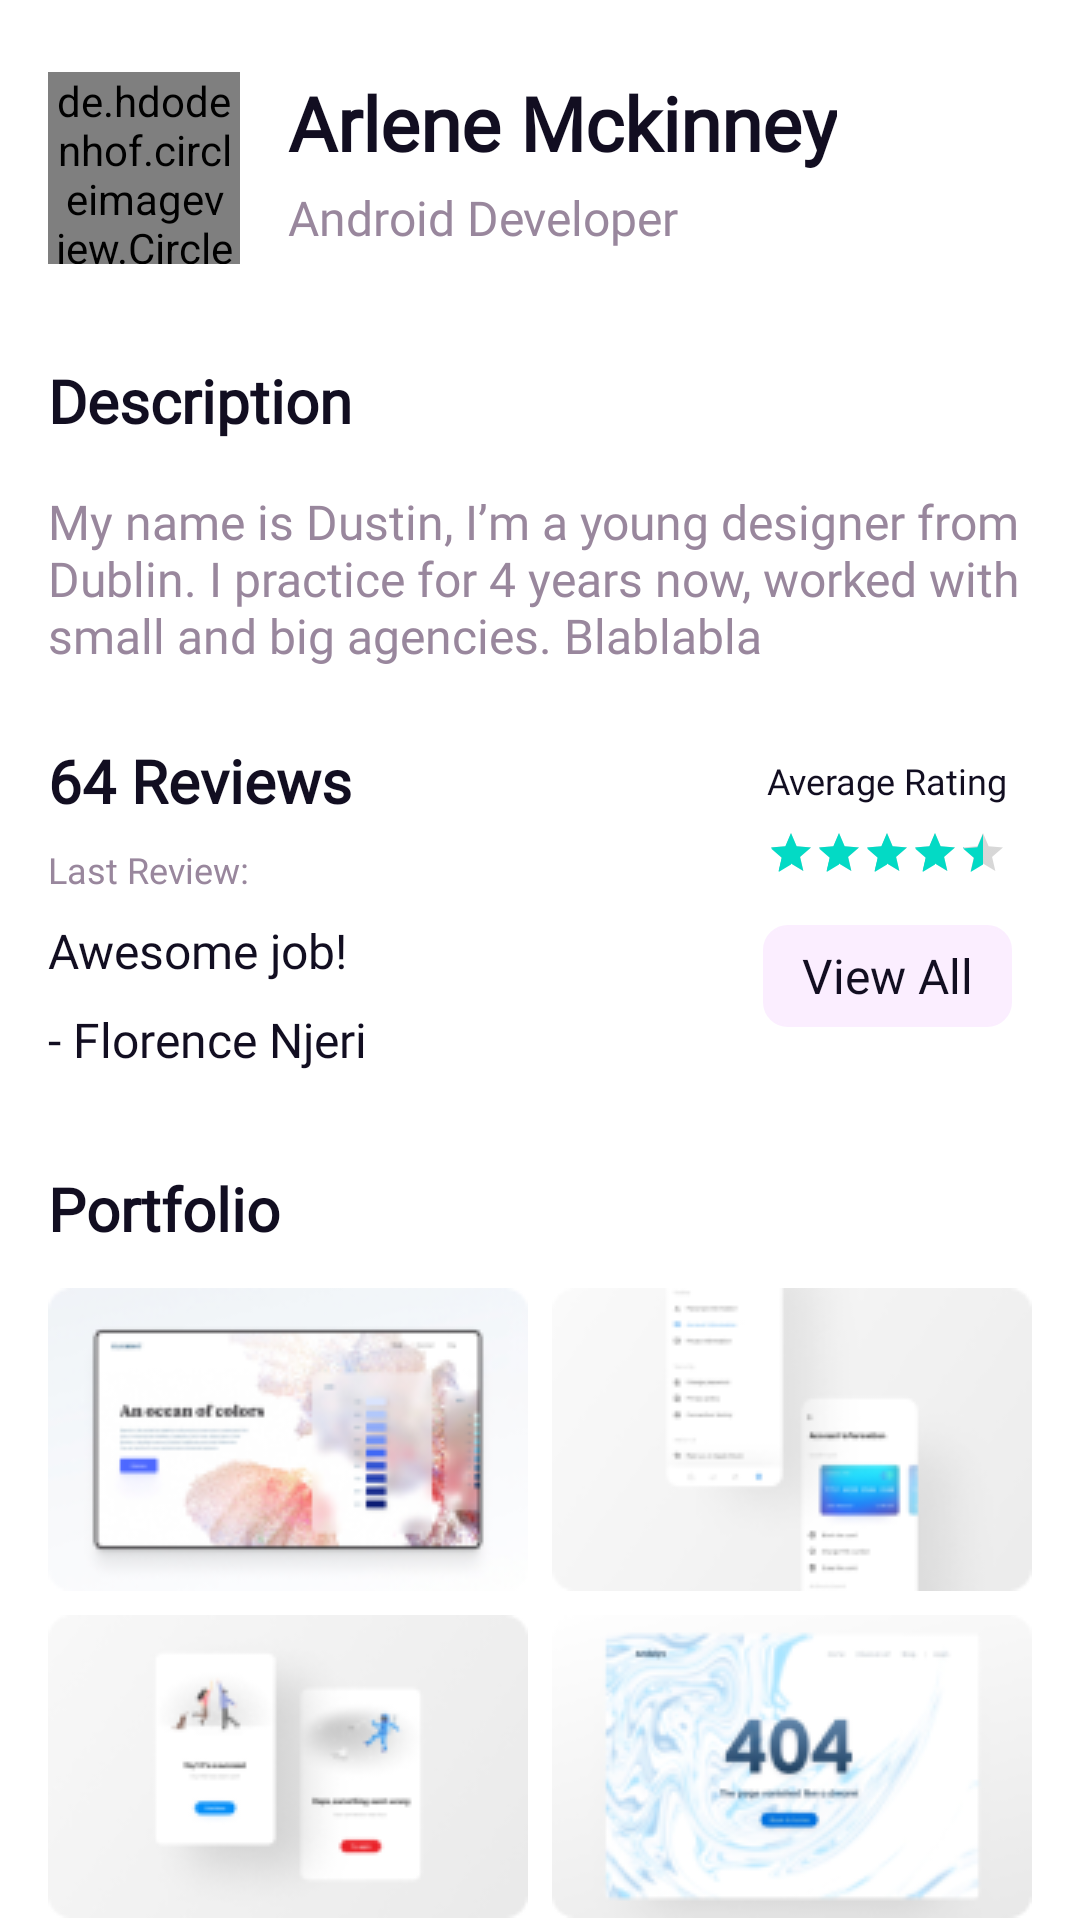

Named icons in this screenshot (1080px×1920px) and their bounding boxes, bbox=[x1, y1, x2, y2]:
porfolio two: bbox=[673, 1294, 955, 1591]
